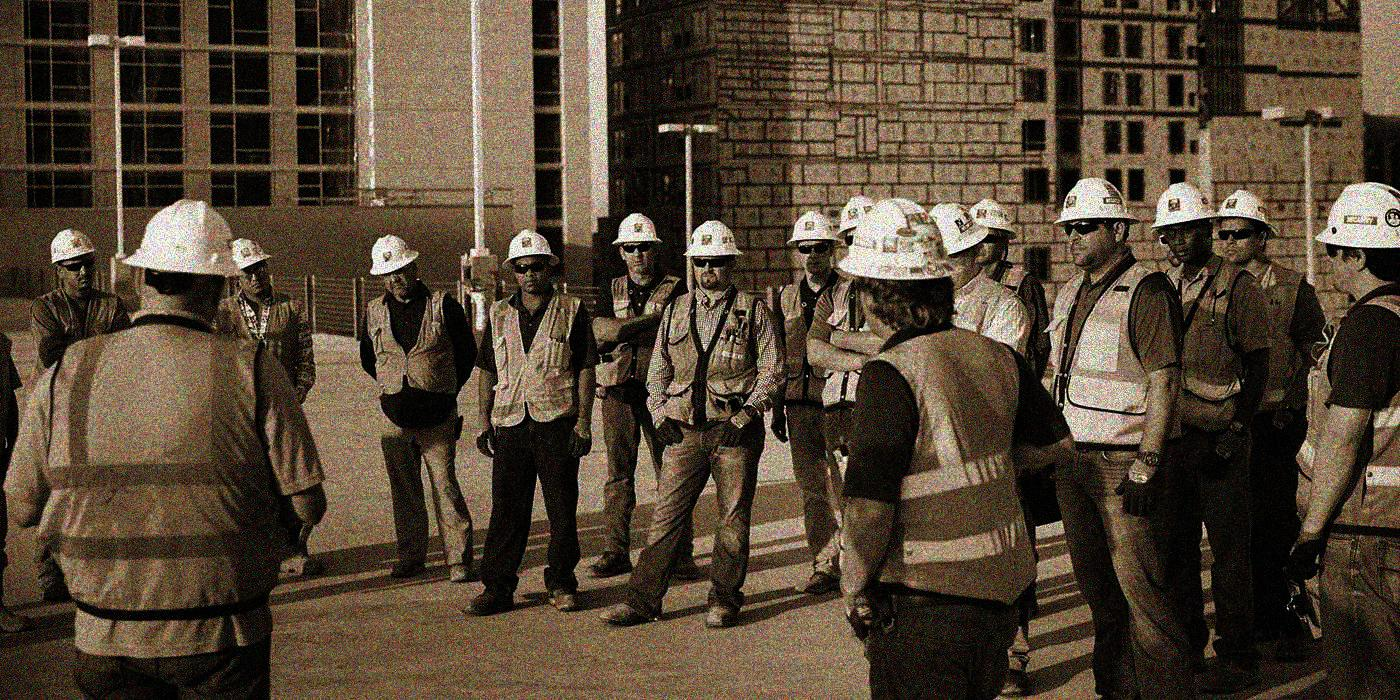helmet: (841, 196, 959, 339), (125, 198, 246, 328), (1312, 178, 1400, 293), (1051, 174, 1140, 268), (1153, 180, 1220, 268), (926, 198, 987, 286), (684, 215, 743, 288), (1218, 187, 1271, 264), (364, 231, 421, 302), (500, 226, 559, 293), (46, 224, 96, 295), (227, 234, 276, 306), (611, 210, 663, 277), (784, 208, 841, 269), (971, 196, 1017, 267), (840, 193, 873, 238)
